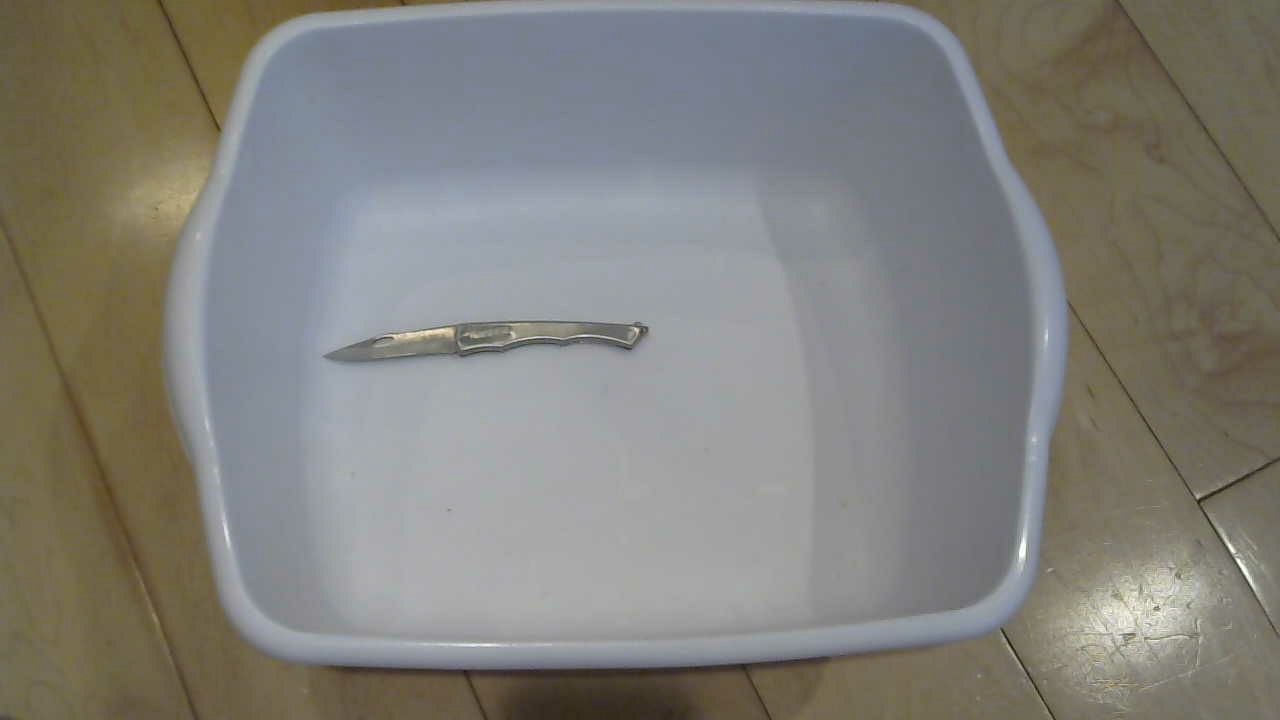knife: (321, 321, 666, 374)
